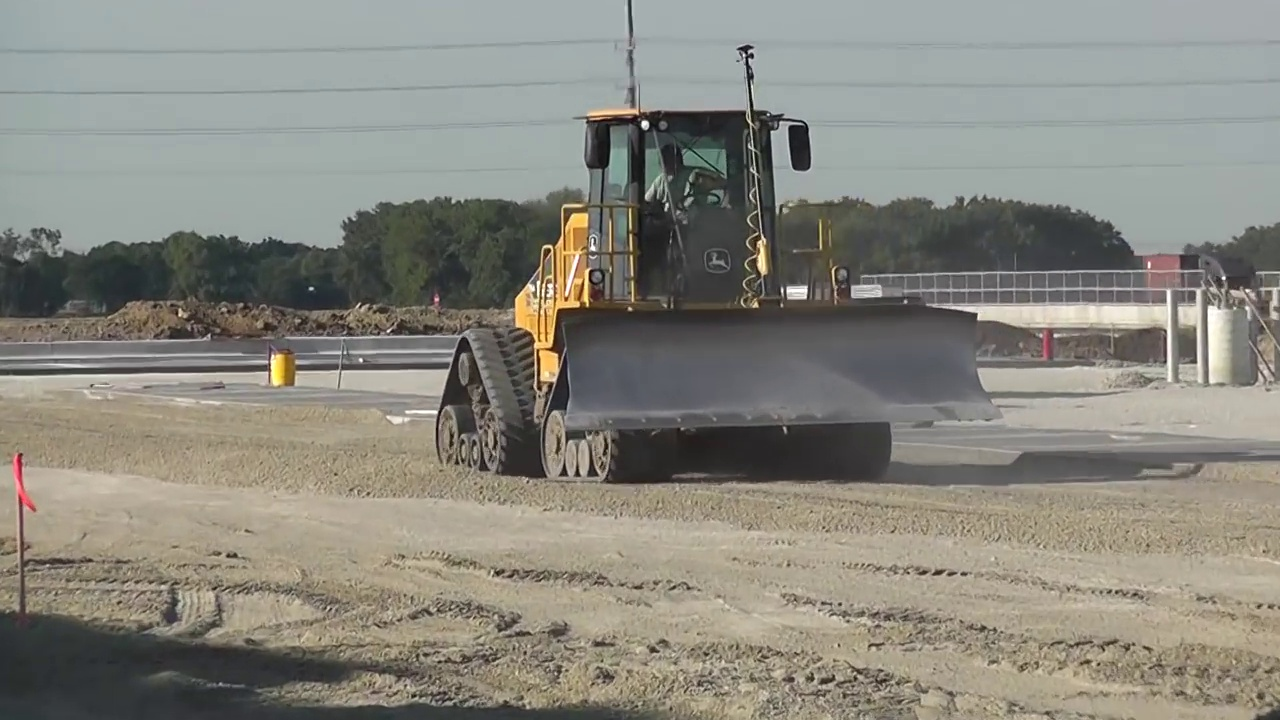bulldozer: (428, 104, 1008, 479)
person: (648, 138, 724, 239)
